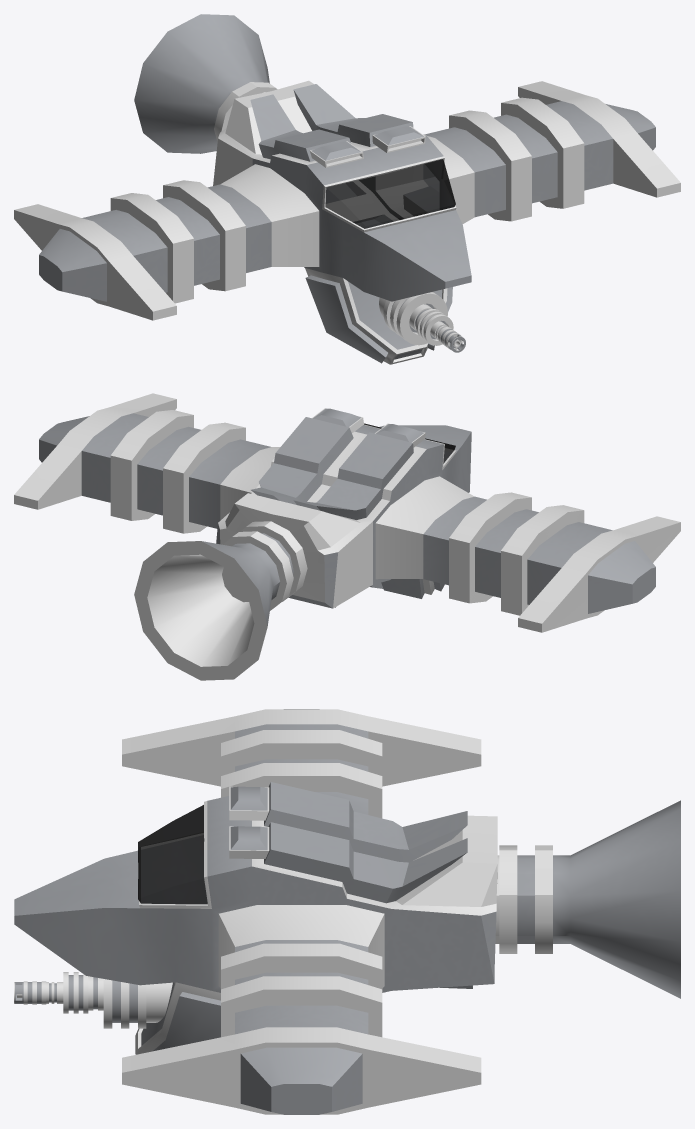
The model's file is CDA.fbx.
3 views of the same model, one above another, from view 1: azimuth 30°, elevation 25°; view 2: azimuth 150°, elevation 25°; view 3: azimuth 270°, elevation 25° (orthographic). The views are drawn at different scales.
Parts seen in each view (by area): view 1: CDA; view 2: CDA; view 3: CDA.
Boxes of the visible parts, x1,y1,x2,y2 form: CDA: [14, 14, 680, 364]; CDA: [14, 393, 680, 680]; CDA: [14, 709, 680, 1114].
Size of the model in its own units: 8.9 by 2.84 by 6.69.
